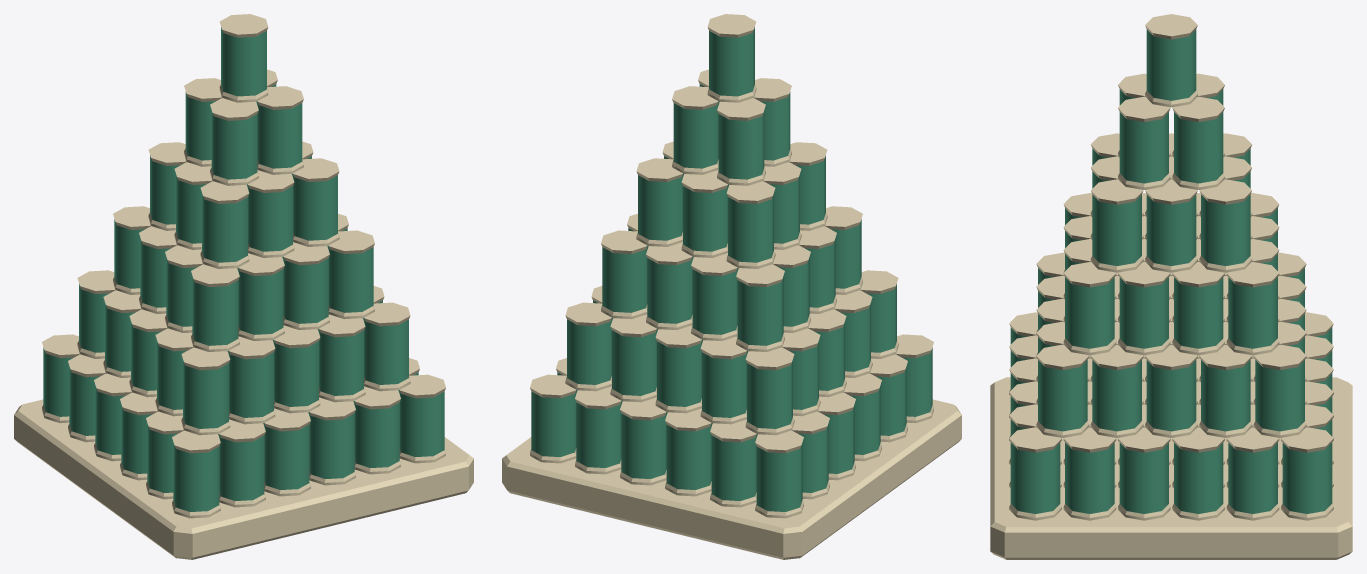
Rendered from optimized-variant-b.glb.
The picture shows the model from 3 angles, left to right: view 1: azimuth 30°, elevation 25°; view 2: azimuth 150°, elevation 25°; view 3: azimuth 270°, elevation 25°; orthographic projection. The views are drawn at different scales.
Parts seen in each view (by area): view 1: DISPLAY_MergedCansAndPlinth; view 2: DISPLAY_MergedCansAndPlinth; view 3: DISPLAY_MergedCansAndPlinth.
Part boxes in pixels (x1,y1,x2,y2): DISPLAY_MergedCansAndPlinth: (14,14,473,559); DISPLAY_MergedCansAndPlinth: (502,14,961,559); DISPLAY_MergedCansAndPlinth: (990,14,1352,559).
Bounding box in the file's own units: 1 × 1.4 × 1.
